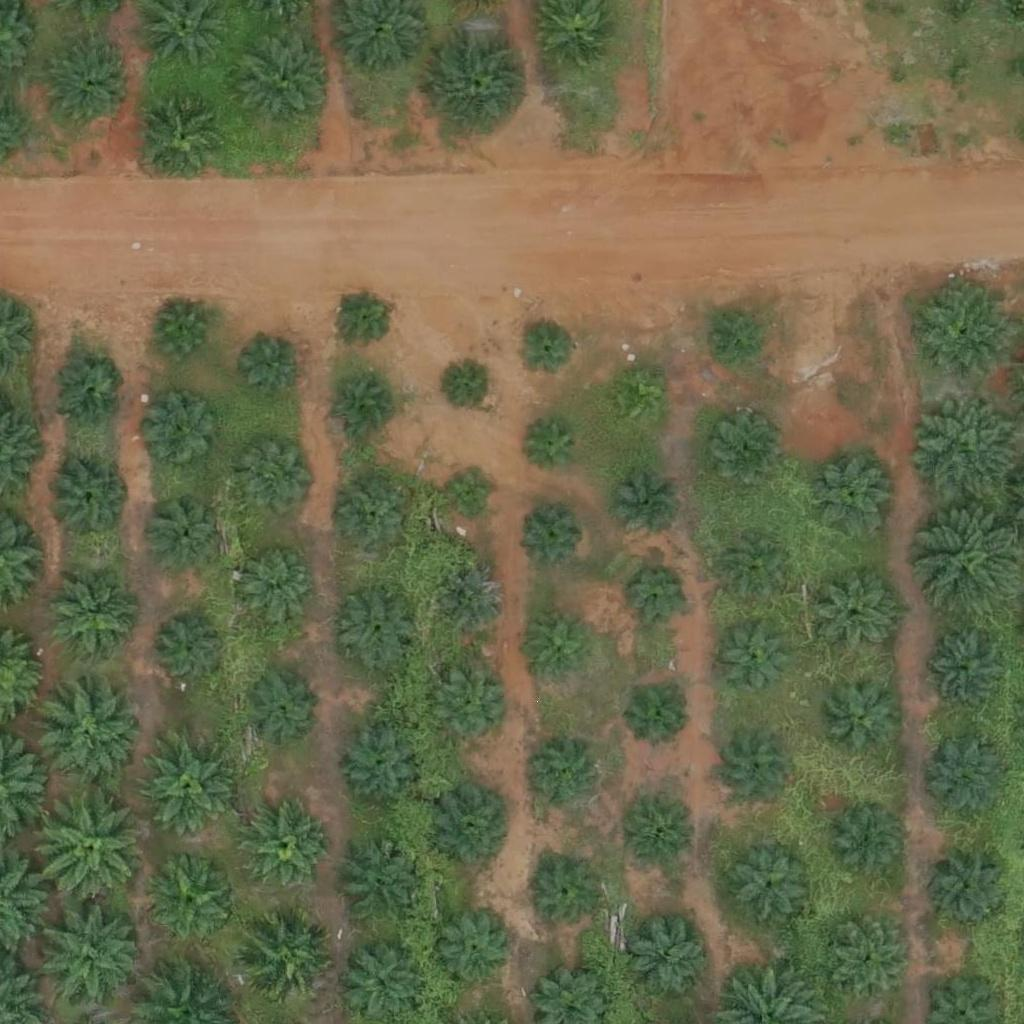Kelapa_Sawit: (28, 785, 153, 911), (232, 25, 332, 126), (431, 31, 531, 132), (915, 283, 1015, 384), (40, 685, 140, 785), (134, 736, 234, 836), (237, 912, 337, 1012), (42, 904, 142, 1004), (730, 843, 818, 932), (334, 583, 422, 671), (429, 783, 517, 871), (47, 41, 135, 129), (140, 91, 228, 179), (49, 575, 137, 663), (338, 723, 426, 811), (826, 915, 914, 1003), (147, 860, 235, 948), (621, 913, 708, 1002), (44, 454, 131, 542), (930, 843, 1017, 931), (243, 804, 330, 892), (338, 842, 425, 930), (238, 545, 313, 621), (148, 493, 223, 569), (153, 612, 228, 688), (242, 668, 317, 744), (721, 526, 796, 602), (705, 416, 780, 492), (819, 577, 894, 653), (48, 354, 123, 430), (814, 457, 889, 533), (934, 630, 1009, 706), (932, 744, 1007, 820), (146, 396, 221, 471), (239, 438, 314, 513), (337, 482, 412, 557), (531, 858, 606, 933), (519, 742, 594, 817), (720, 733, 795, 808), (825, 805, 900, 880), (827, 677, 902, 752), (721, 617, 796, 692), (429, 668, 504, 743), (436, 567, 511, 642), (608, 472, 683, 547), (622, 562, 697, 637), (620, 676, 695, 751), (623, 800, 698, 875), (437, 916, 512, 991), (331, 286, 394, 349), (332, 375, 395, 438), (529, 615, 592, 678), (606, 370, 669, 433), (698, 308, 761, 371), (151, 302, 213, 365), (241, 335, 303, 398), (516, 317, 578, 380), (520, 417, 582, 480), (520, 504, 582, 567), (446, 361, 496, 412), (445, 467, 495, 518)
